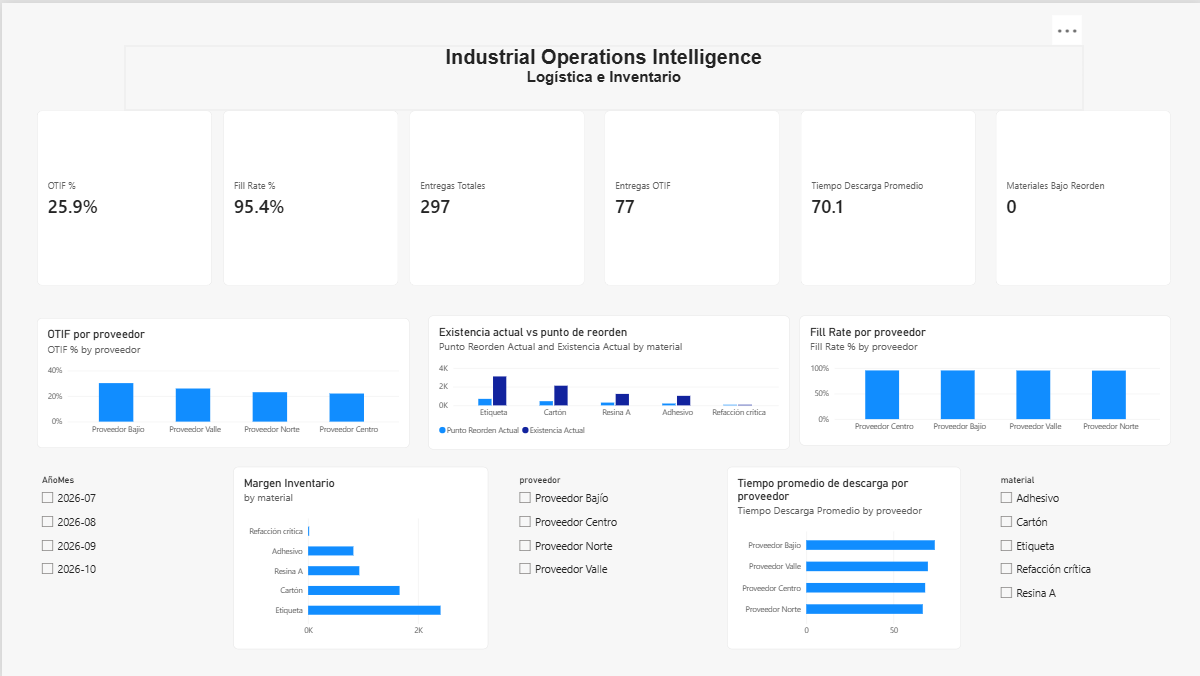

Layout of this report page (visuals, bound fields, positions):
{"tool":"powerbi","page":{"name":"Logística e Inventario","canvas":[1920,1080],"ordinal":3},"visuals":[{"type":"cardVisual","fields":{"Data":["Medidas.OTIF %"]},"box":[56,172,280,280],"z":0},{"type":"cardVisual","fields":{"Data":["Medidas.Materiales Bajo Reorden"]},"box":[1590,172,280,280],"z":1000},{"type":"cardVisual","fields":{"Data":["Medidas.Tiempo Descarga Promedio"]},"box":[1278,172,280,280],"z":2000},{"type":"cardVisual","fields":{"Data":["Medidas.Fill Rate %"]},"box":[354,172,280,280],"z":3000},{"type":"cardVisual","fields":{"Data":["Medidas.Entregas Totales"]},"box":[652,172,280,280],"z":4000},{"type":"cardVisual","fields":{"Data":["Medidas.Entregas OTIF"]},"box":[964,172,280,280],"z":5000},{"type":"slicer","fields":{"Values":["DimFecha.AñoMes"]},"box":[56,754,280,280],"z":6000},{"type":"slicer","fields":{"Values":["DimProveedor.proveedor"]},"box":[820,754,280,280],"z":7000},{"type":"slicer","fields":{"Values":["DimMaterial.material"]},"box":[1590,754,280,280],"z":8000},{"type":"clusteredColumnChart","title":"OTIF por proveedor","fields":{"Category":["DimProveedor.proveedor"],"Y":["Medidas.OTIF %"]},"box":[56,504,596,208],"z":9000},{"type":"clusteredColumnChart","title":"Fill Rate por proveedor","fields":{"Category":["DimProveedor.proveedor"],"Y":["Medidas.Fill Rate %"]},"box":[1276,500,594,208],"z":10000},{"type":"clusteredColumnChart","title":"Existencia actual vs punto de reorden","fields":{"Category":["DimMaterial.material"],"Y":["Medidas.Punto Reorden Actual","Medidas.Existencia Actual"]},"box":[682,500,578,214],"z":11000},{"type":"clusteredBarChart","fields":{"Category":["DimMaterial.material"],"Y":["Medidas.Margen Inventario"]},"box":[370,742,408,292],"z":12000},{"type":"clusteredBarChart","title":"Tiempo promedio de descarga por proveedor","fields":{"Category":["DimProveedor.proveedor"],"Y":["Medidas.Tiempo Descarga Promedio"]},"box":[1160,742,374,292],"z":13000},{"type":"textbox","box":[196,68,1534,104],"z":13001}]}

Visuals, with their boxes in screenshot pixels (x1, y1, x2, y2), scaled from the page's 1920x1080 canvas onto the 1200x676 screenshot:
cardVisual - Medidas.OTIF %: region(35, 108, 210, 283)
cardVisual - Medidas.Materiales Bajo Reorden: region(994, 108, 1169, 283)
cardVisual - Medidas.Tiempo Descarga Promedio: region(799, 108, 974, 283)
cardVisual - Medidas.Fill Rate %: region(221, 108, 396, 283)
cardVisual - Medidas.Entregas Totales: region(408, 108, 582, 283)
cardVisual - Medidas.Entregas OTIF: region(602, 108, 778, 283)
slicer - DimFecha.AñoMes: region(35, 472, 210, 647)
slicer - DimProveedor.proveedor: region(512, 472, 688, 647)
slicer - DimMaterial.material: region(994, 472, 1169, 647)
"OTIF por proveedor" clusteredColumnChart: region(35, 315, 408, 446)
"Fill Rate por proveedor" clusteredColumnChart: region(798, 313, 1169, 443)
"Existencia actual vs punto de reorden" clusteredColumnChart: region(426, 313, 788, 447)
clusteredBarChart - DimMaterial.material x Medidas.Margen Inventario: region(231, 464, 486, 647)
"Tiempo promedio de descarga por proveedor" clusteredBarChart: region(725, 464, 959, 647)
textbox: region(122, 43, 1081, 108)
